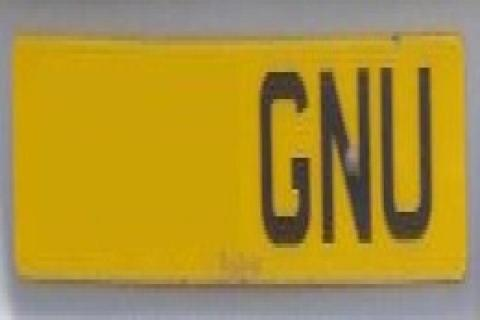LicensePlate: (9, 23, 480, 293)
